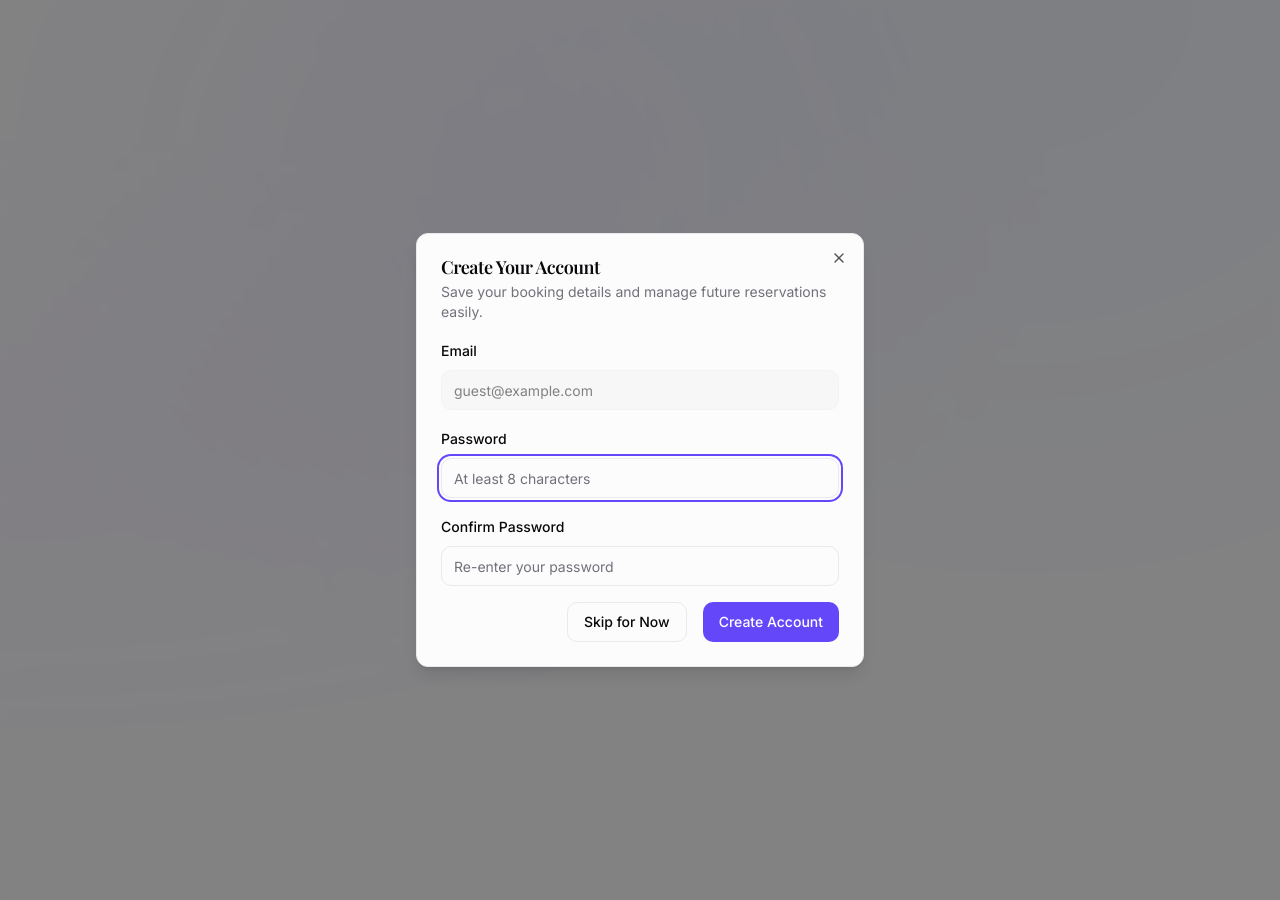
Test: CreateAccountDialog › should validate password length
In the password field labelled "Password": (640,478) [441,458,839,498], type "short"
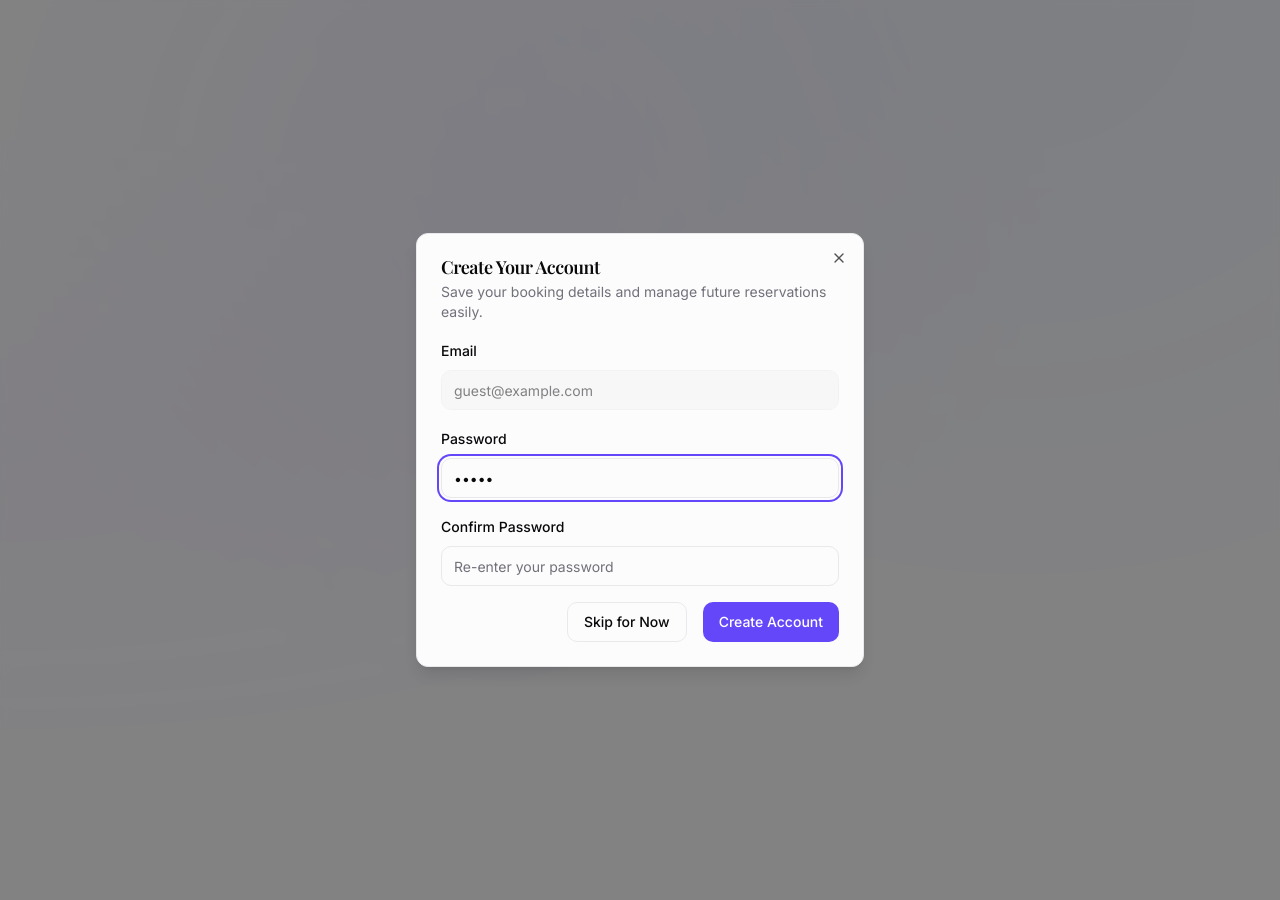
In the password field labelled "Confirm Password": (640,566) [441,546,839,586], type "short"
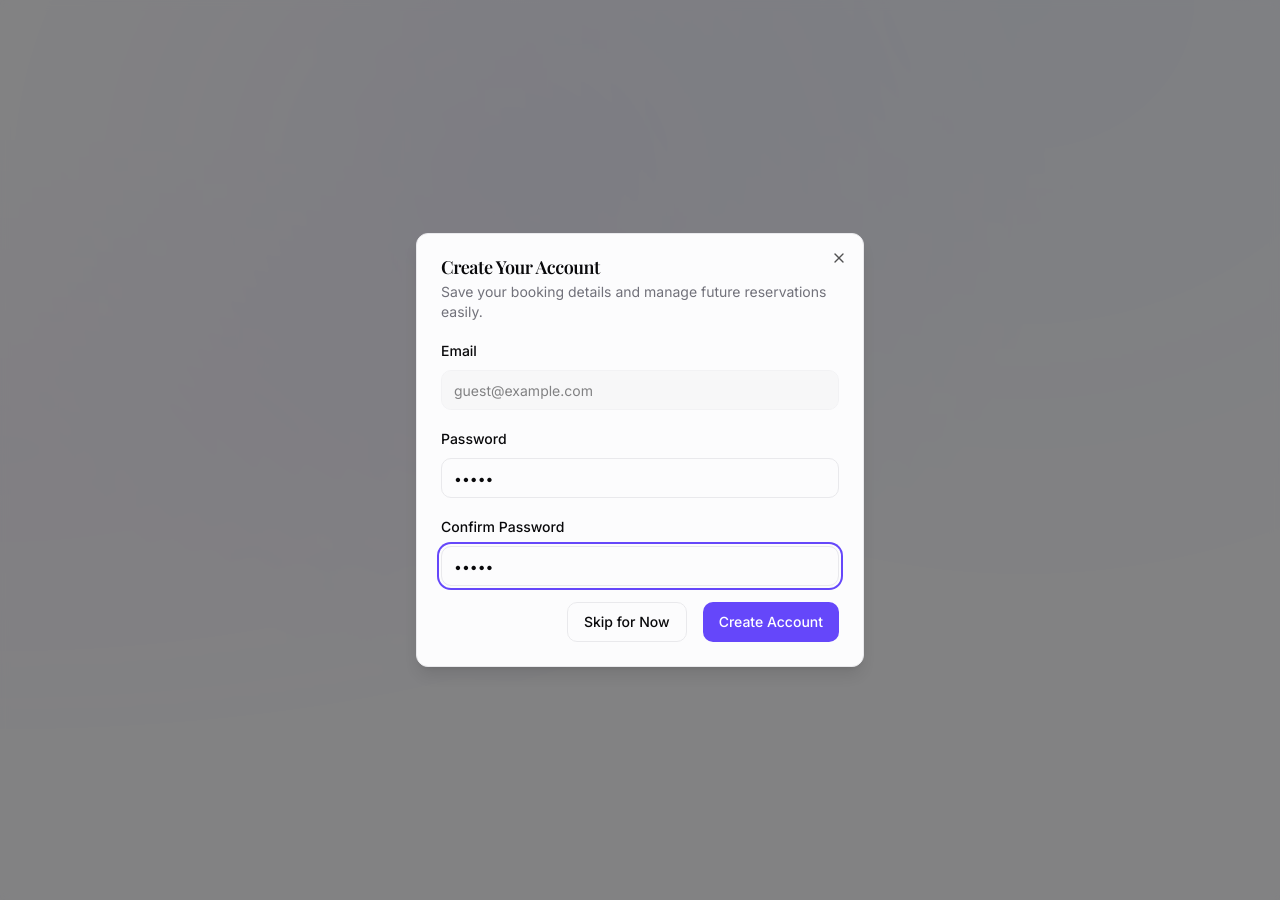
Click the button "Create Account": (771,622) [703,602,839,642]
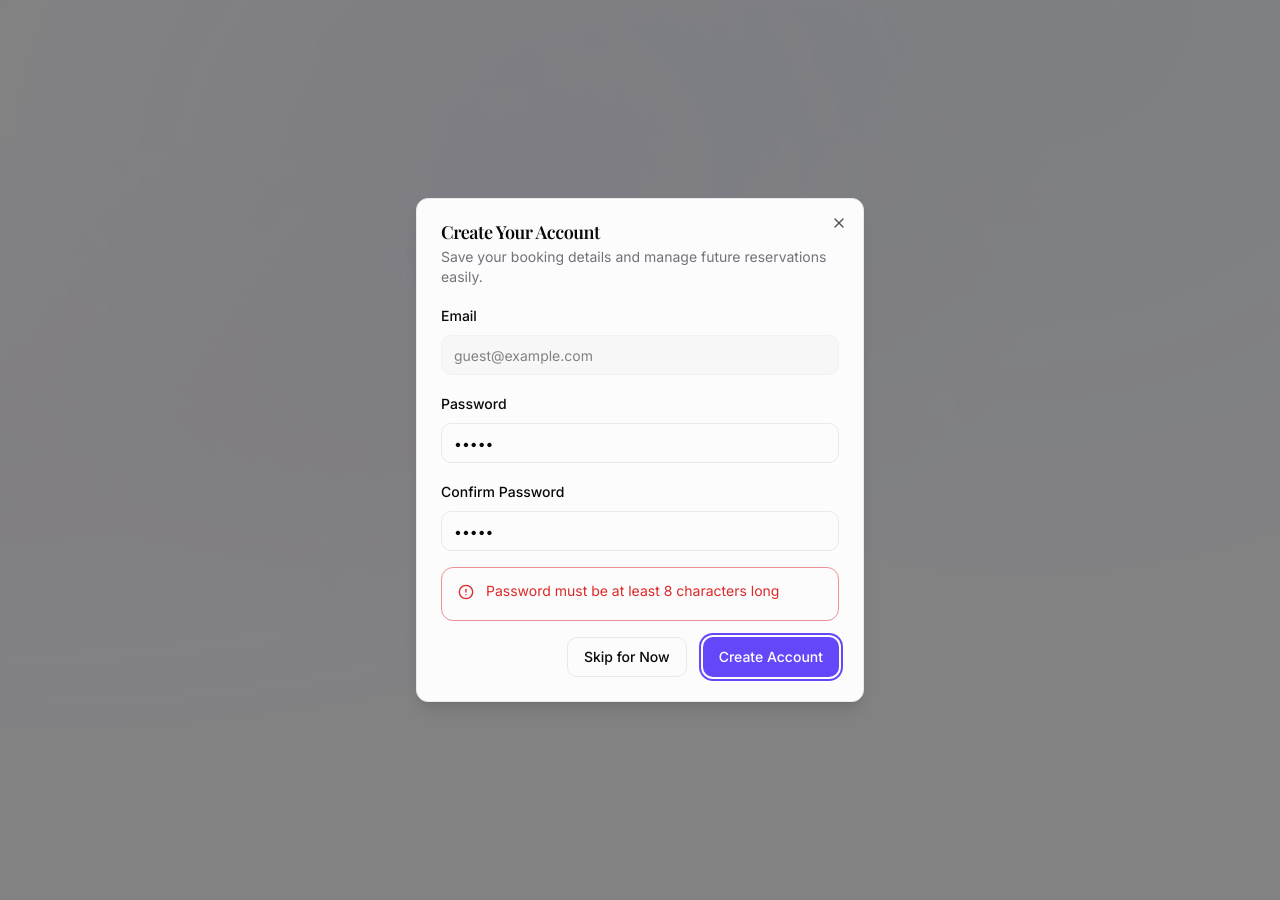
Expected: the text "Password must be at least 8 characters long" is shown, [486,582,779,599]
